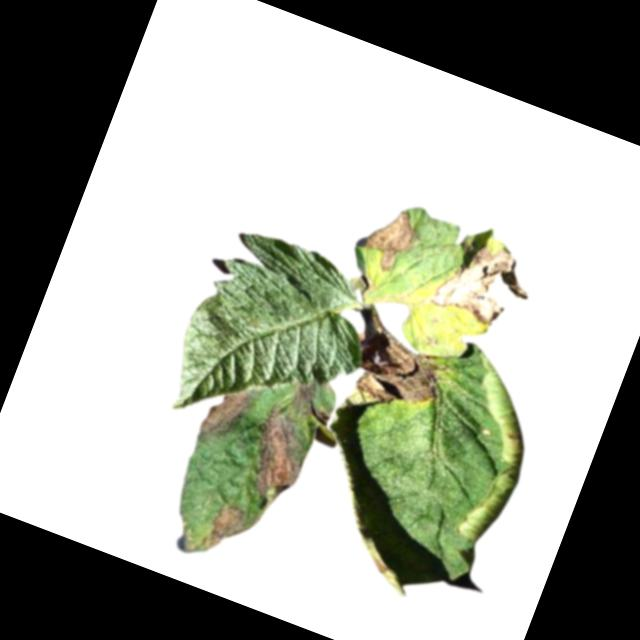Late_blight: (425, 233, 540, 341), (337, 322, 456, 425), (235, 401, 322, 514), (348, 197, 427, 279), (196, 378, 255, 453), (200, 500, 253, 565), (287, 379, 339, 428)
healthy: (156, 217, 393, 467)
